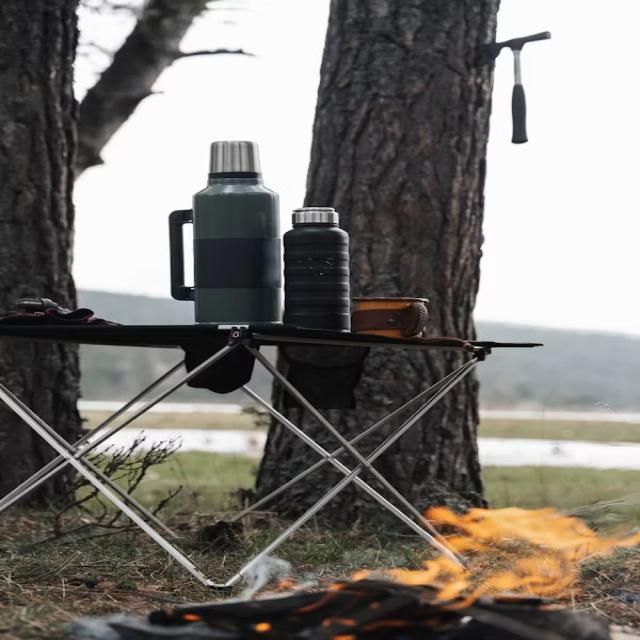Bottle: (170, 141, 281, 324), (283, 207, 349, 331)
